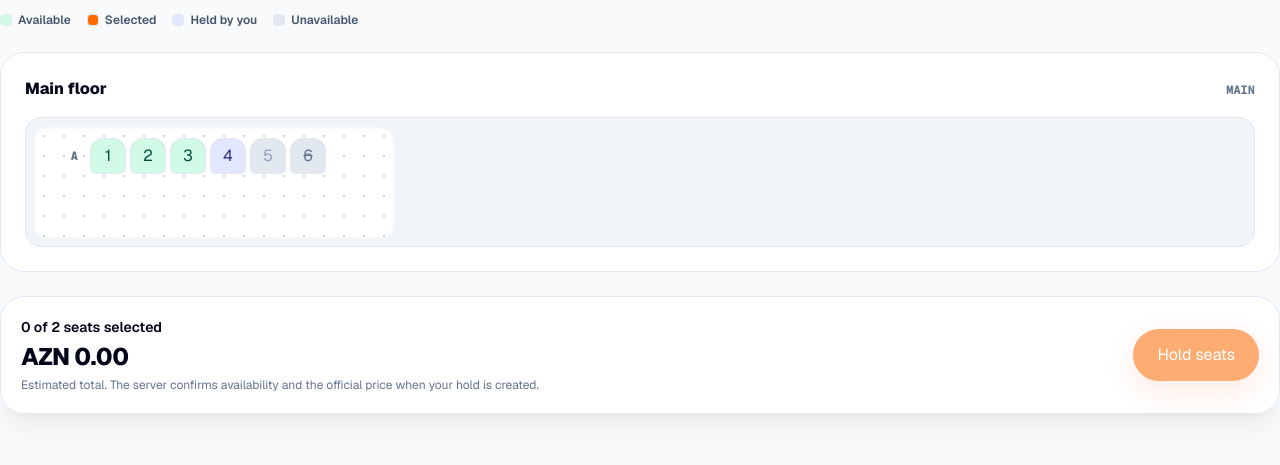
Phase 4A selectable coordinate seat map › updates selected count and total, then enforces the maximum with feedback
This screenshot has width=1280, height=465.
Click the button named "seat 1, standard: available": coordinates (108, 156) [90,138,126,174]
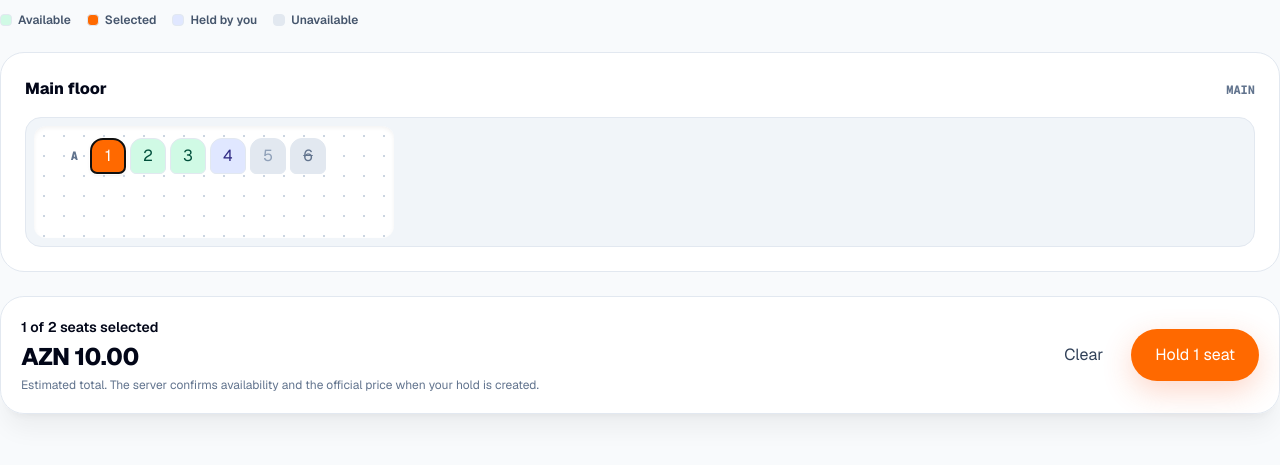
Click the button named "seat 2, premium: available": coordinates (148, 156) [130,138,166,174]
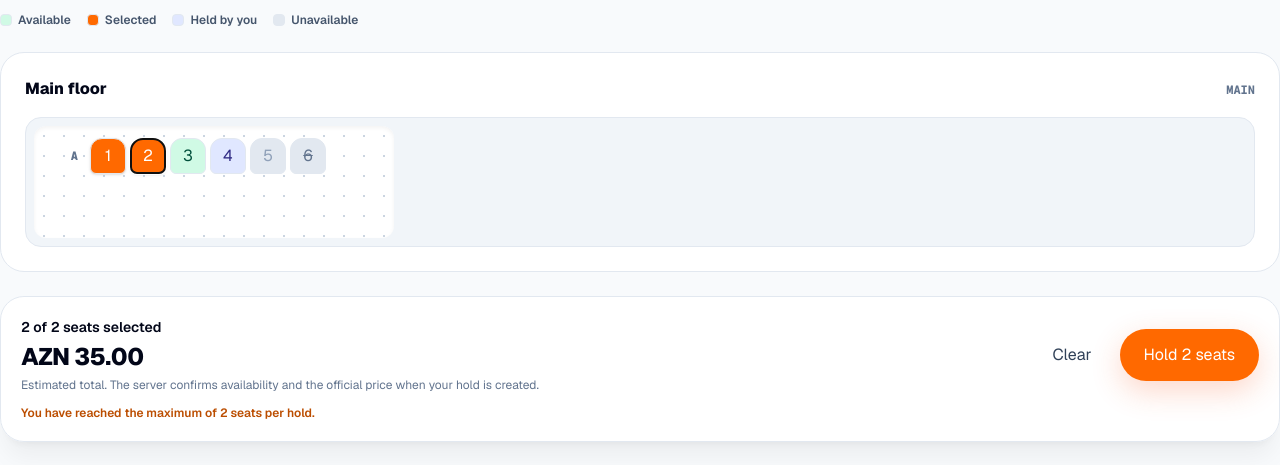
Result: the text "2 of 2 seats selected" is shown at [21,318,161,336]
Result: the text "AZN 35.00" is shown at [21,341,144,372]
Result: the text "You have reached the maximum of 2 seats per hold." is shown at [21,405,315,421]
